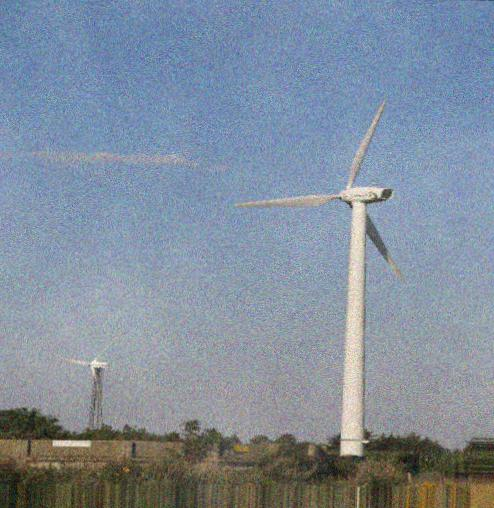wind turbine: (227, 97, 406, 444), (61, 342, 115, 434)
